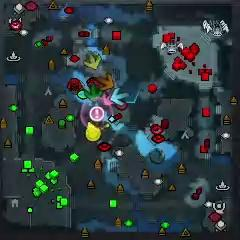Other: (90, 106, 104, 121)
p4: (85, 121, 101, 142)
x1: (102, 92, 113, 106)
x2: (85, 52, 101, 70)
x3: (111, 88, 129, 105)
x4: (84, 83, 102, 101)
x5: (97, 72, 115, 91)
